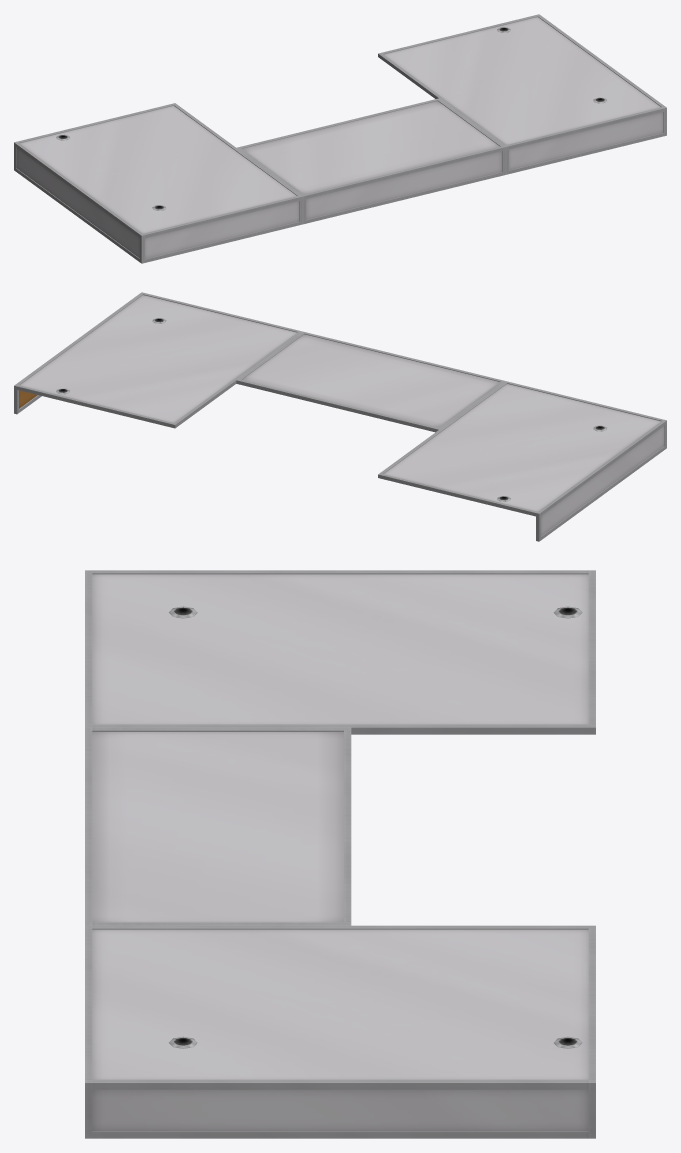
Rendered from jsf_4P_s02_c04_t04_DX.fbx.
3 views of the same model, one above another, from view 1: azimuth 30°, elevation 25°; view 2: azimuth 150°, elevation 25°; view 3: azimuth 270°, elevation 25° (orthographic). The views are drawn at different scales.
Parts seen in each view (by area): view 1: jsf_4P_s02_c04_t04_DX; view 2: jsf_4P_s02_c04_t04_DX; view 3: jsf_4P_s02_c04_t04_DX.
Part boxes in pixels (x1=…): jsf_4P_s02_c04_t04_DX: x1=14, y1=14, x2=666, y2=263; jsf_4P_s02_c04_t04_DX: x1=14, y1=292, x2=666, y2=541; jsf_4P_s02_c04_t04_DX: x1=85, y1=570, x2=595, y2=1138.
Size of the model in its own units: 246 by 12.99 by 104.
